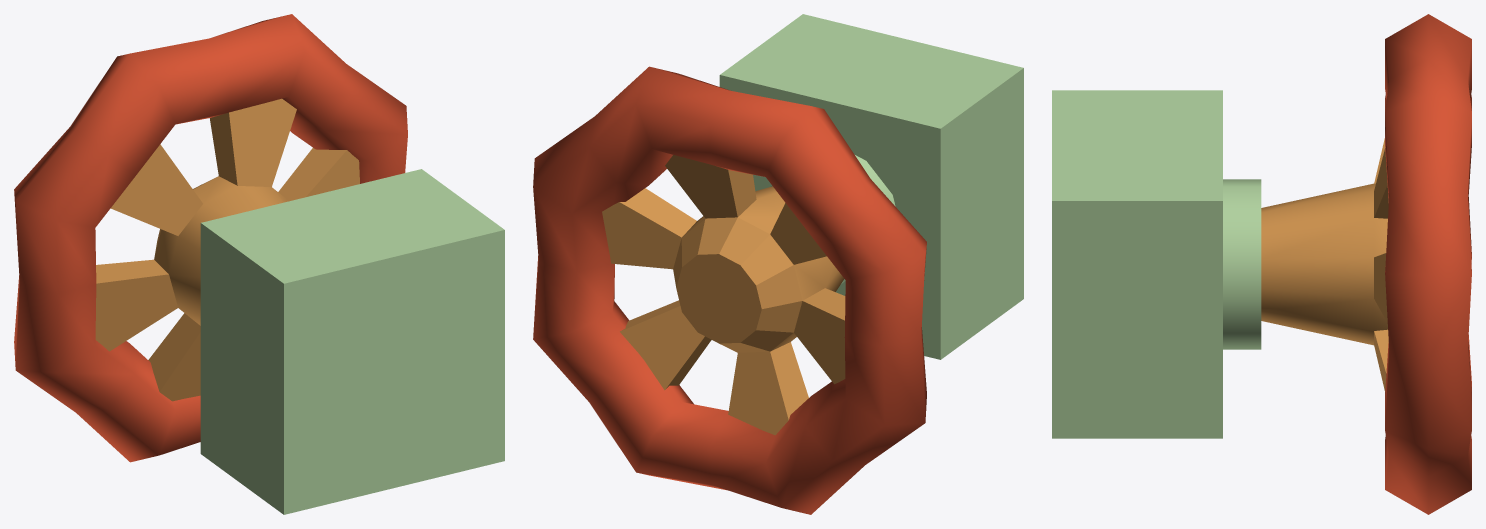
Rendered from Valve.fbx.
The picture shows the model from 3 angles, left to right: view 1: azimuth 30°, elevation 25°; view 2: azimuth 150°, elevation 25°; view 3: azimuth 270°, elevation 25°; orthographic projection. The views are drawn at different scales.
Visible parts, largest first — view 1: Valve, Rotate; view 2: Rotate, Valve; view 3: Valve, Rotate.
Part boxes in pixels (x1=…): Valve: x1=200, y1=169, x2=504, y2=514; Rotate: x1=14, y1=14, x2=407, y2=462; Rotate: x1=533, y1=66, x2=926, y2=514; Valve: x1=719, y1=14, x2=1023, y2=359; Valve: x1=1052, y1=90, x2=1261, y2=438; Rotate: x1=1261, y1=14, x2=1471, y2=514.
Size of the model in its own units: 0.3166 by 0.3166 by 0.287.
